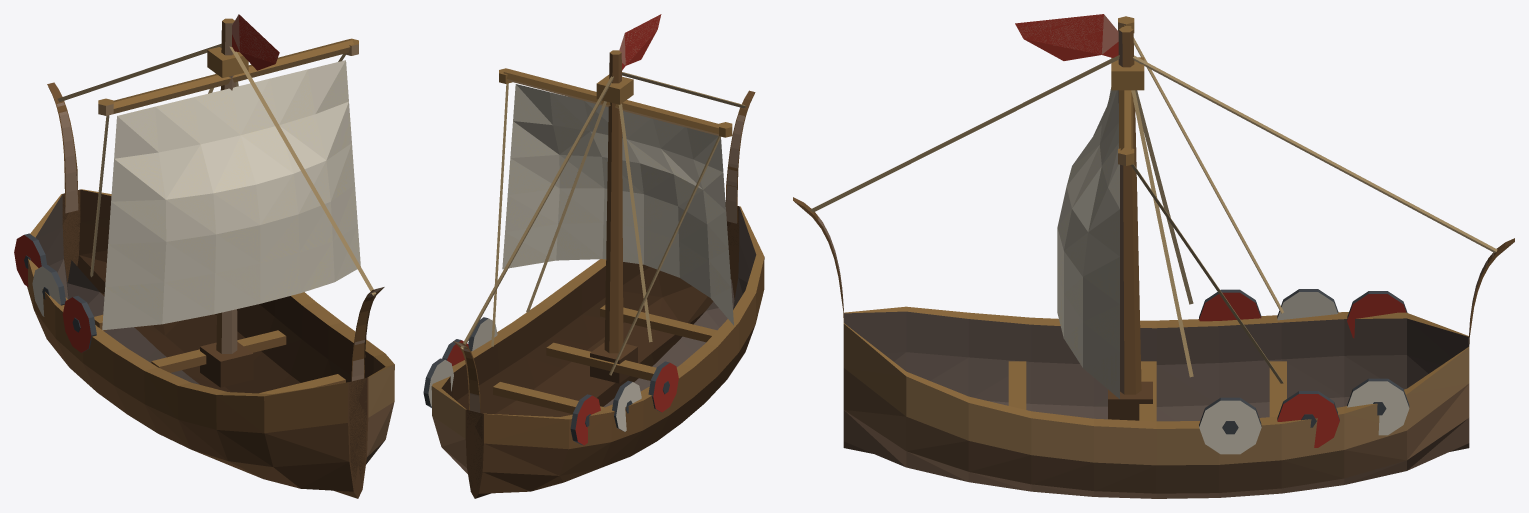
The model's file is boat_sail_a.glb.
3 views of the same model, side by side, from view 1: azimuth 30°, elevation 25°; view 2: azimuth 150°, elevation 25°; view 3: azimuth 270°, elevation 25° (orthographic). The views are drawn at different scales.
Parts seen in each view (by area): view 1: boat_sail_a; view 2: boat_sail_a; view 3: boat_sail_a.
Boxes of the visible parts, x1=… form: boat_sail_a: x1=14, y1=14, x2=394, y2=498; boat_sail_a: x1=423, y1=14, x2=764, y2=498; boat_sail_a: x1=793, y1=14, x2=1514, y2=498.
Bounding box in the file's own units: 3.78 × 5.95 × 8.3.
